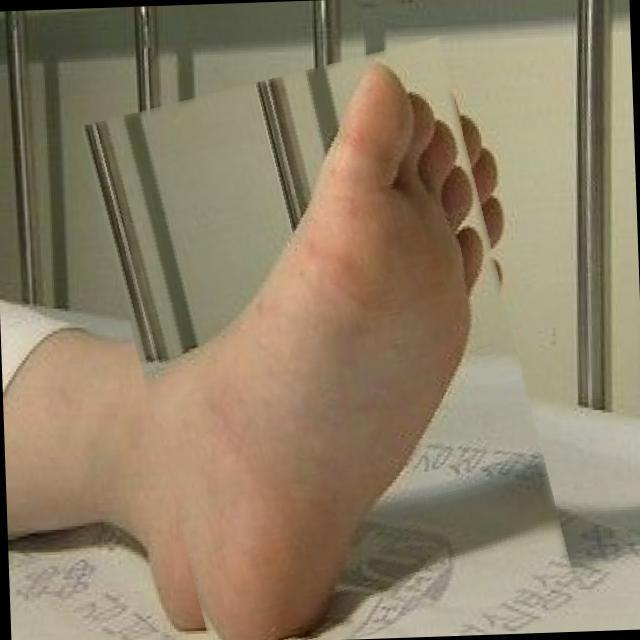No_Shoes: (152, 55, 492, 632)
